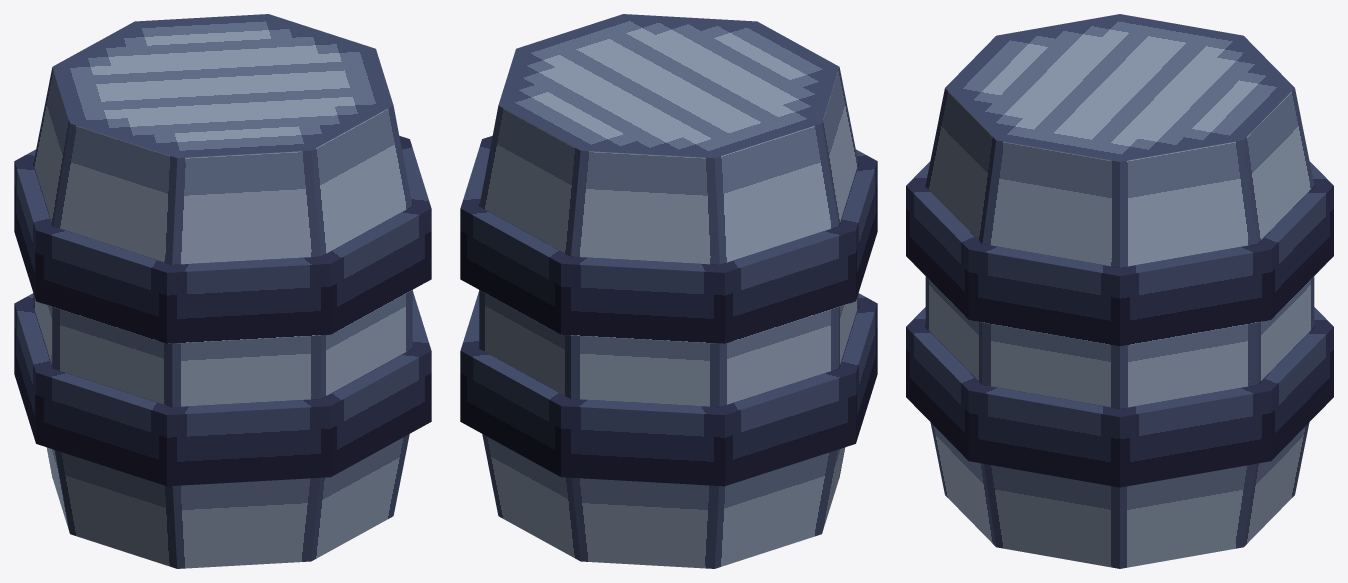
File: Barrel.fbx
3 renders of one model, left to right at view 1: azimuth 30°, elevation 25°; view 2: azimuth 150°, elevation 25°; view 3: azimuth 270°, elevation 25°, orthographic.
Parts seen in each view (by area): view 1: Cylinder; view 2: Cylinder; view 3: Cylinder.
Part boxes in pixels (<box>): Cylinder: <box>14,14,431,568</box>; Cylinder: <box>460,14,877,568</box>; Cylinder: <box>906,14,1333,568</box>.
Bounding box in the file's own units: 220 × 231 × 220.
Materials: 1 (1 with a texture image).
